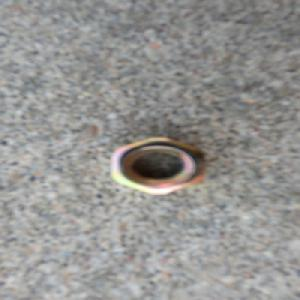Nut: (107, 135, 206, 195)
